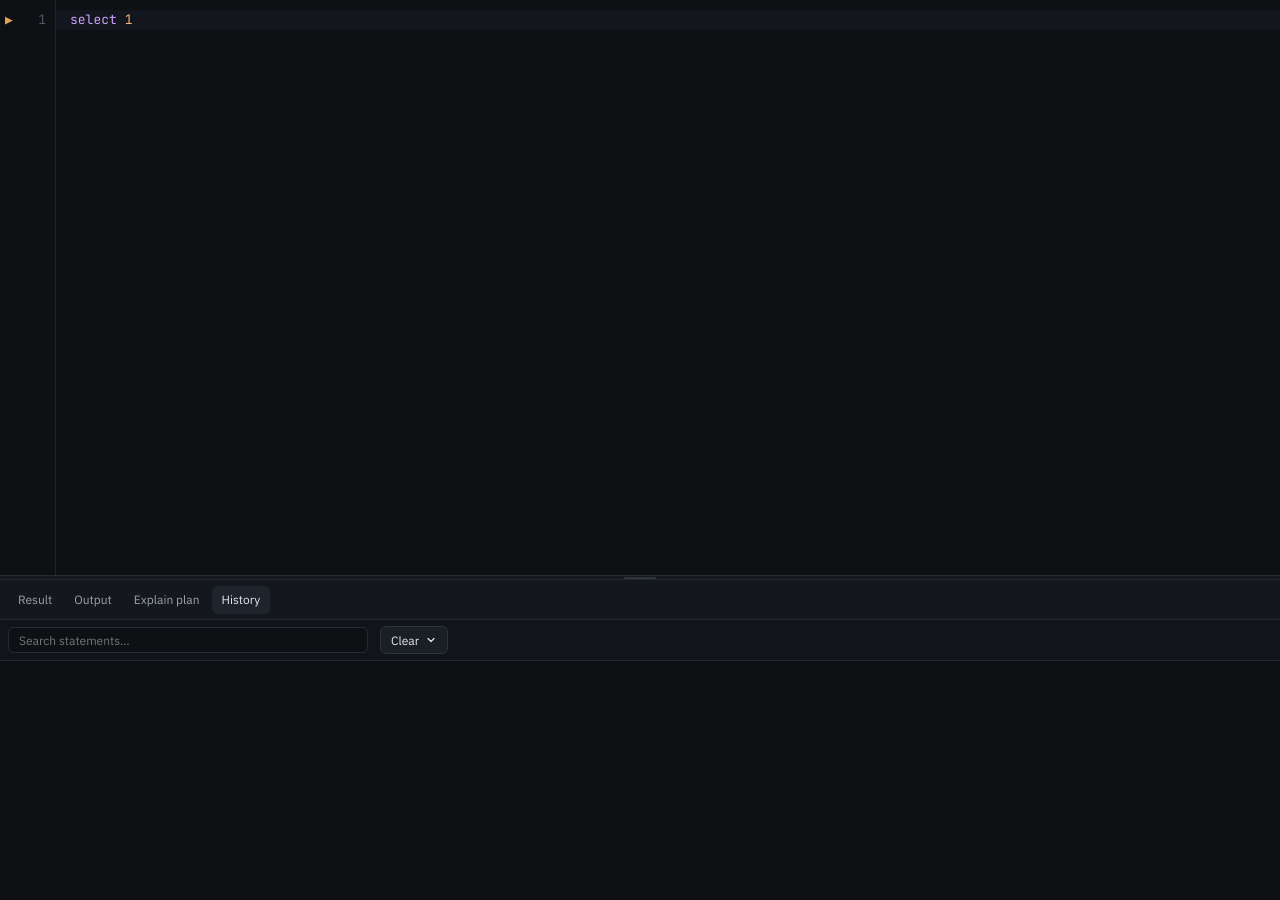
Test: History tab › searches as the user types (spec: query-history › Search)
In the field named "Search history": (188, 640) [8,627,368,653], type "orders"
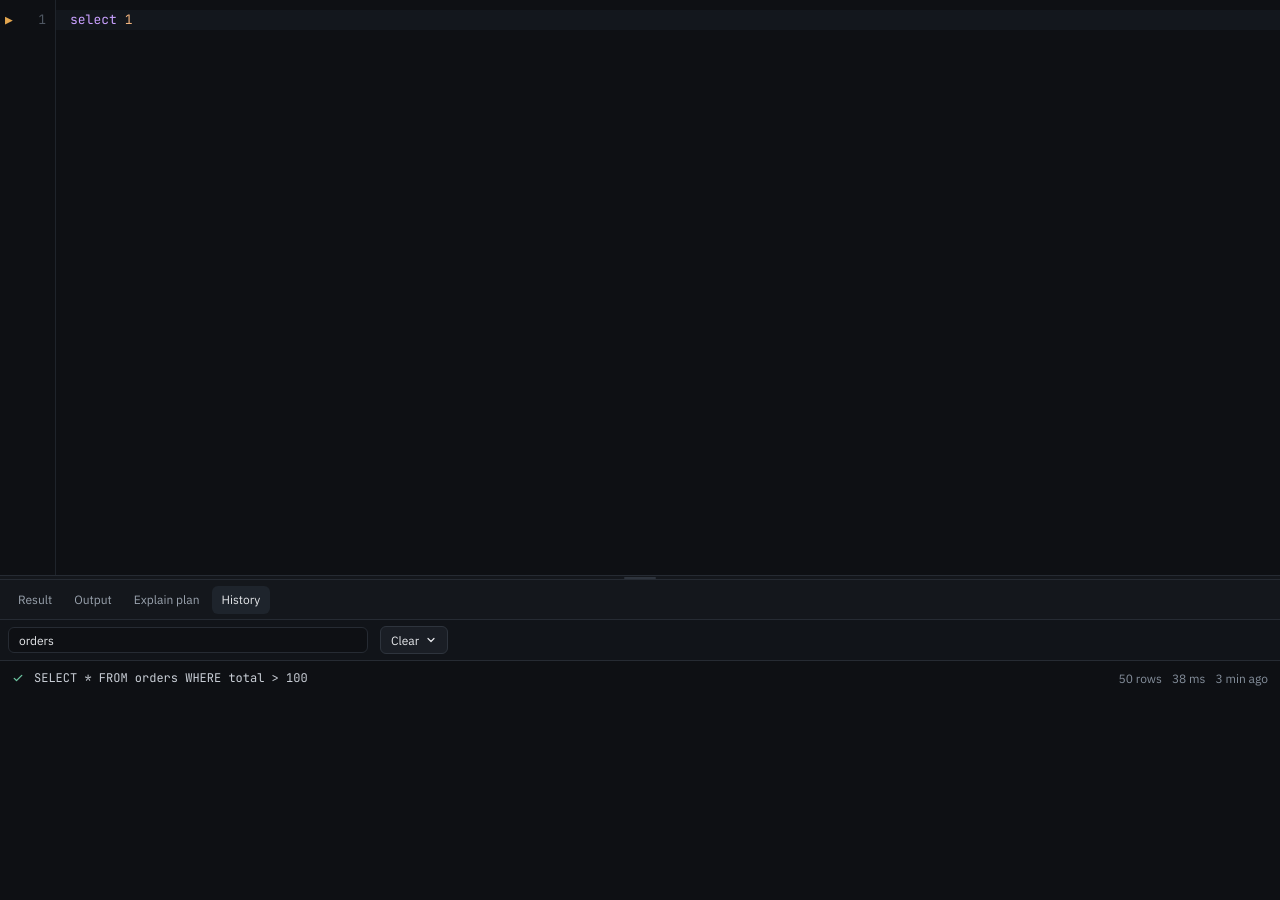
expect the number of options is 1: met, box [0,665,1279,691]
Replace the text in the field named "Search history" with "zzz": (188, 640) [8,627,368,653]
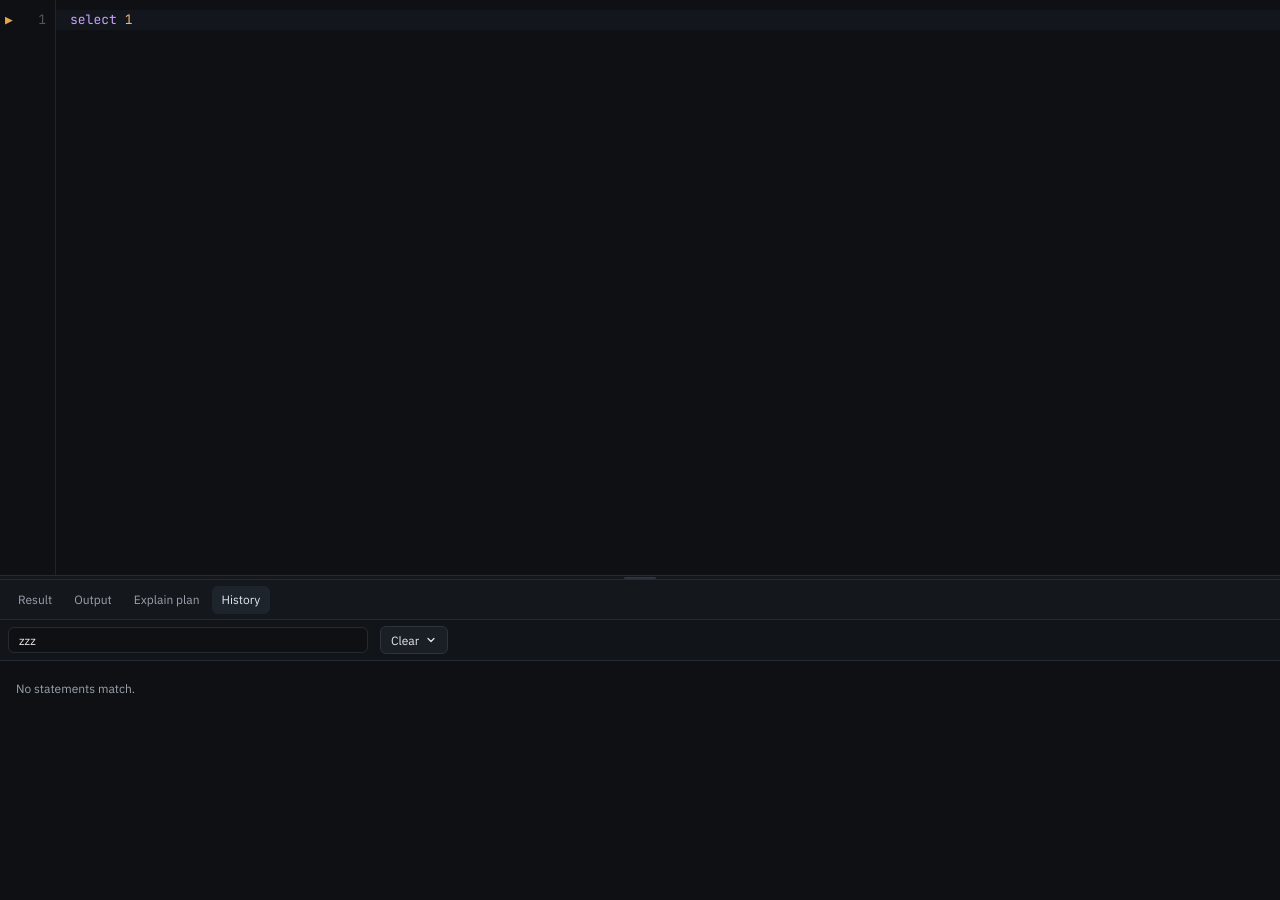
expect the text "No statements match." is shown: met, box [16,681,135,696]
